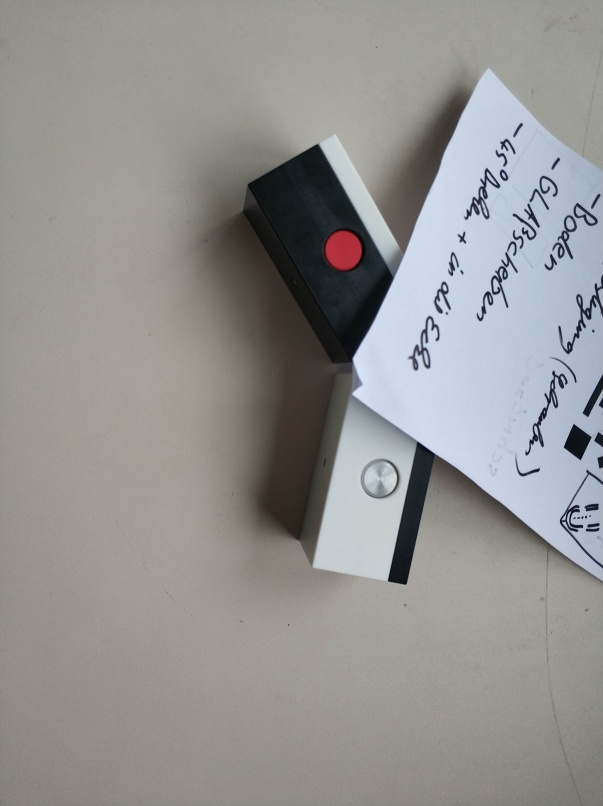black+white+silver: (296, 369, 434, 590)
white+black+red: (240, 131, 405, 362)
